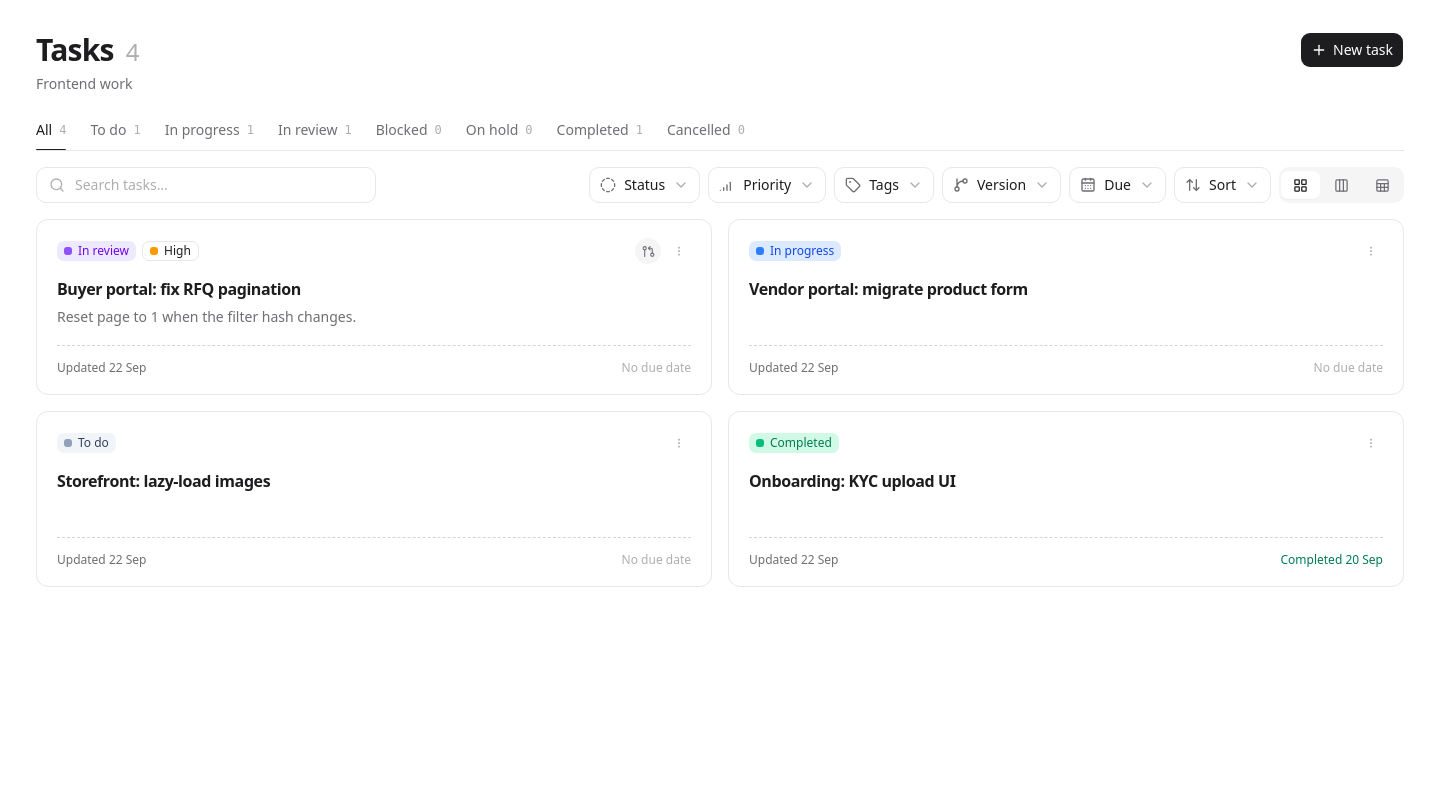
Test case: TasksPage › opens an old plain-text description as paragraphs
The image size is (1440, 810).
Click the button named "Buyer portal: fix RFQ pagination options": (679, 251) [667,239,691,263]
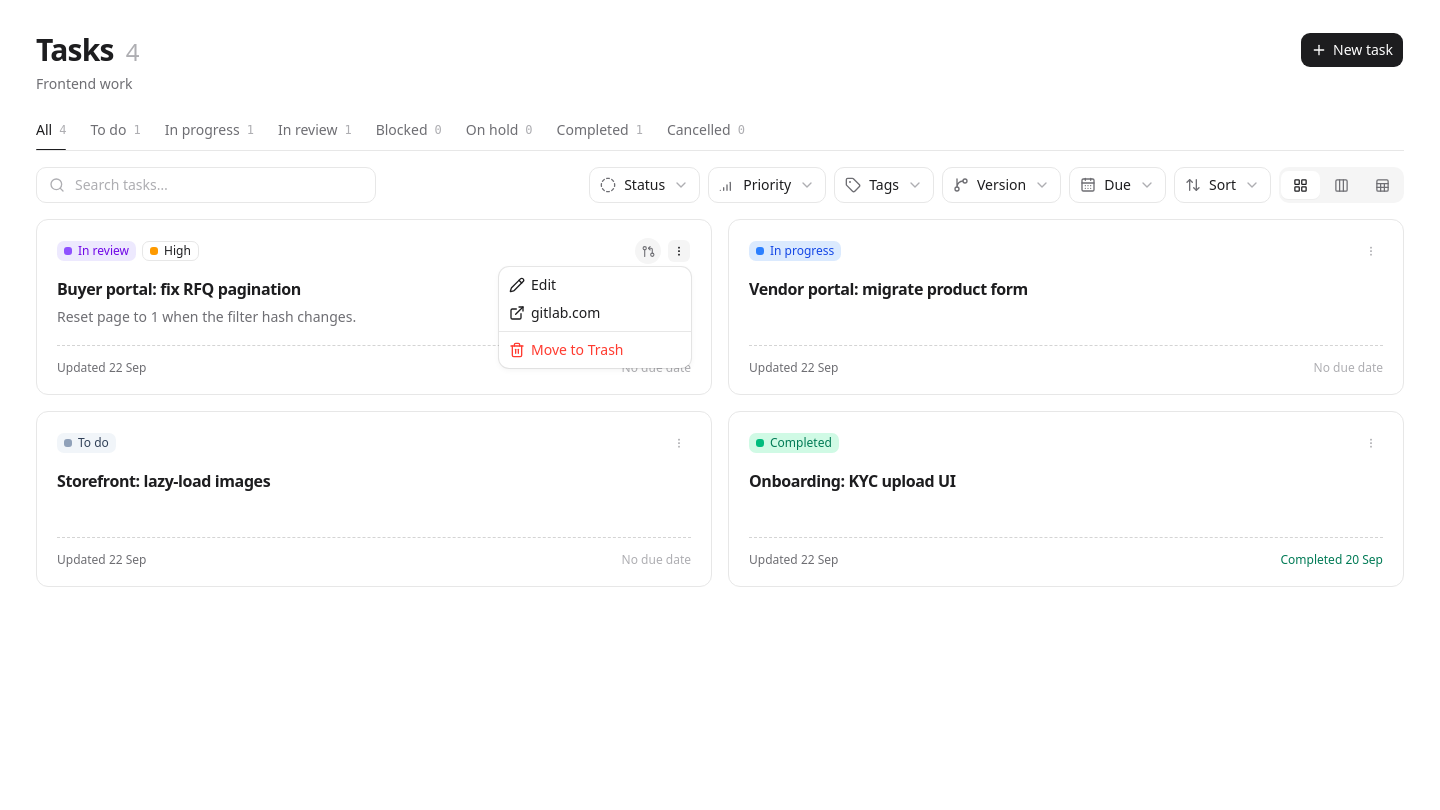
Click the menu item "Edit": (533, 284) [509,275,556,294]
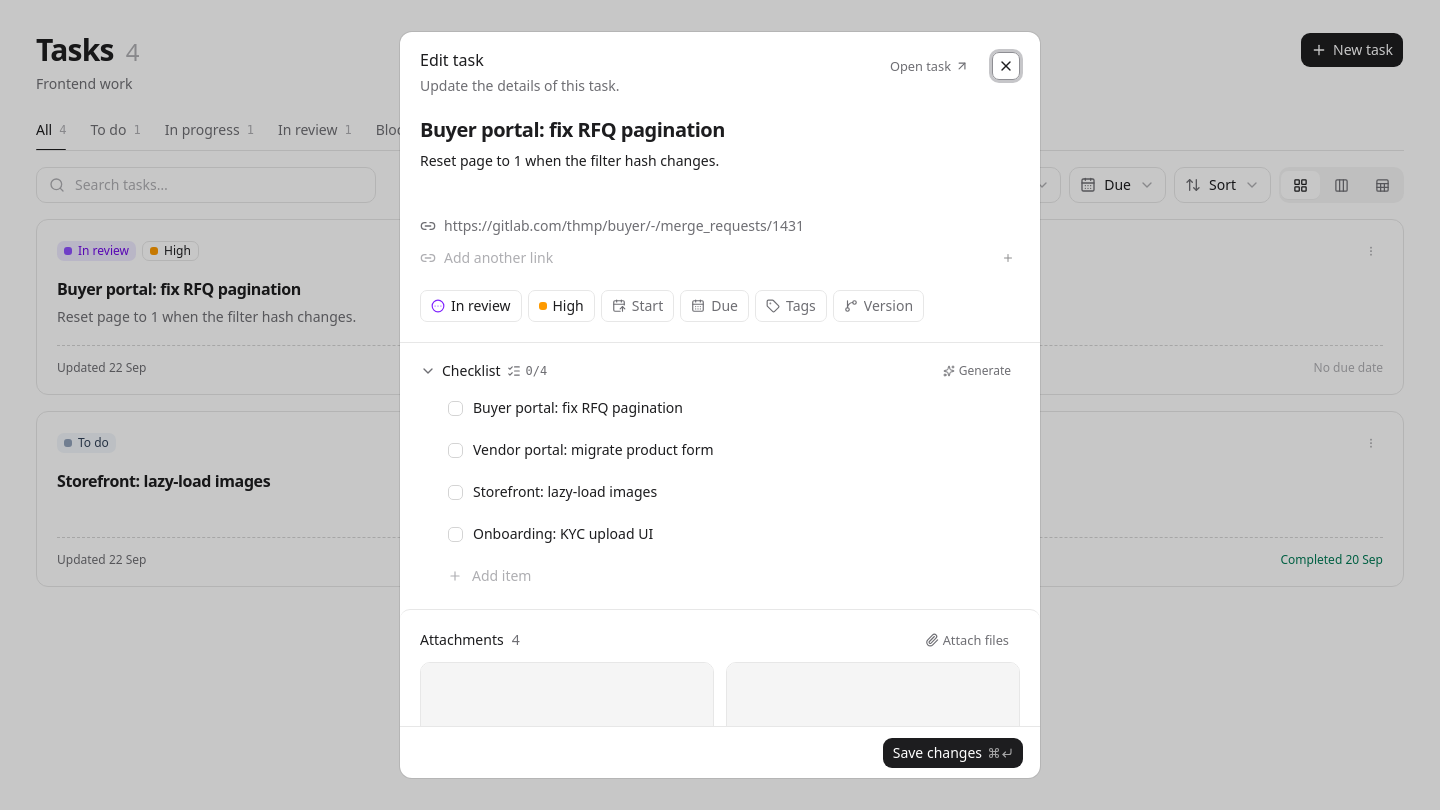
Now the text box labelled "Reset page to 1 when the filter hash changes." is shown, box [420,151,719,170]
